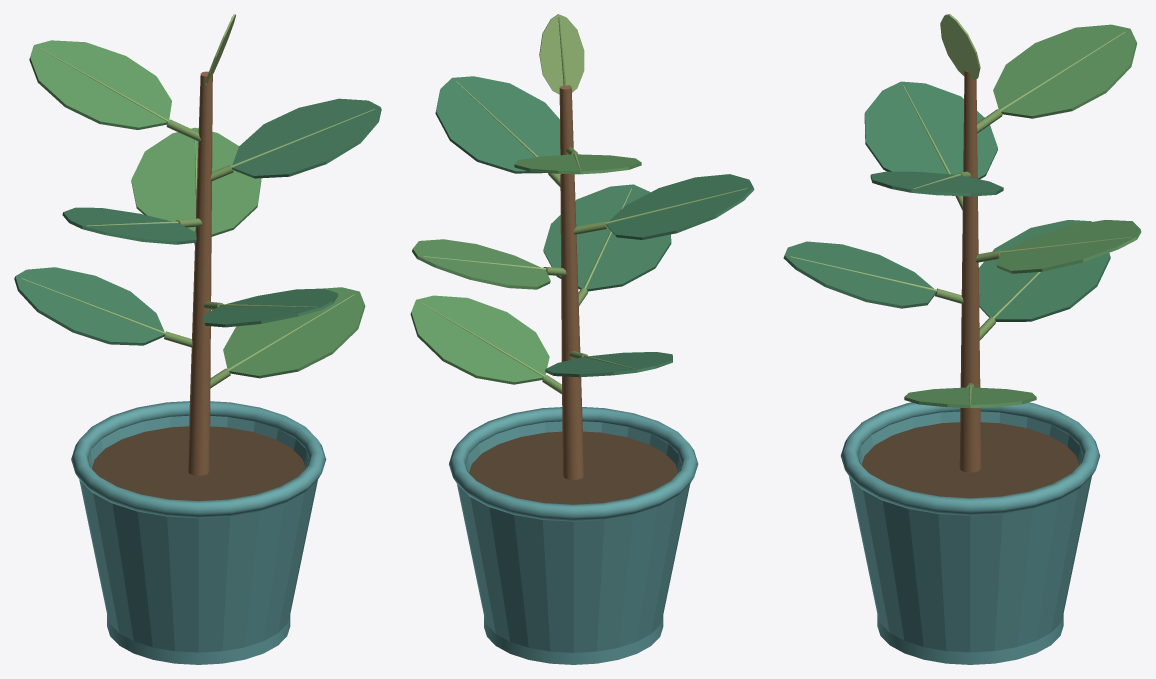
File: houseplant_rubber.glb
3 views of the same model, side by side, from view 1: azimuth 30°, elevation 25°; view 2: azimuth 150°, elevation 25°; view 3: azimuth 270°, elevation 25° (orthographic). The views are drawn at different scales.
Parts seen in each view (by area): view 1: Rubber_Plant_Open_Pot, Rubber_Plant_Visible_Soil, Rubber_Plant_Pot_Rim, Rubber_Plant_Oval_Leaf_6, Rubber_Plant_Oval_Leaf_3, Rubber_Plant_Oval_Leaf_5, Rubber_Plant_Oval_Leaf_1, Rubber_Plant_Main_Stem, Rubber_Plant_Oval_Leaf_0, Rubber_Plant_Oval_Leaf_2, Rubber_Plant_Oval_Leaf_4, Rubber_Plant_Pot_Floor; view 2: Rubber_Plant_Open_Pot, Rubber_Plant_Visible_Soil, Rubber_Plant_Pot_Rim, Rubber_Plant_Oval_Leaf_5, Rubber_Plant_Oval_Leaf_0, Rubber_Plant_Oval_Leaf_2, Rubber_Plant_Main_Stem, Rubber_Plant_Oval_Leaf_4, Rubber_Plant_Oval_Leaf_3, Rubber_Plant_New_Upright_Leaf, Rubber_Plant_Pot_Floor, Rubber_Plant_Oval_Leaf_1 (+1 smaller); view 3: Rubber_Plant_Open_Pot, Rubber_Plant_Visible_Soil, Rubber_Plant_Oval_Leaf_6, Rubber_Plant_Oval_Leaf_4, Rubber_Plant_Pot_Rim, Rubber_Plant_Oval_Leaf_1, Rubber_Plant_Main_Stem, Rubber_Plant_Oval_Leaf_2, Rubber_Plant_Oval_Leaf_3, Rubber_Plant_Pot_Floor, Rubber_Plant_Oval_Leaf_5, Rubber_Plant_Oval_Leaf_0 (+1 smaller).
Boxes of the visible parts, x1=… form: Rubber_Plant_Open_Pot: x1=79, y1=415, x2=317, y2=652; Rubber_Plant_Visible_Soil: x1=91, y1=426, x2=305, y2=500; Rubber_Plant_Pot_Rim: x1=71, y1=401, x2=326, y2=518; Rubber_Plant_Oval_Leaf_6: x1=29, y1=40, x2=171, y2=129; Rubber_Plant_Oval_Leaf_3: x1=131, y1=127, x2=261, y2=236; Rubber_Plant_Oval_Leaf_5: x1=232, y1=98, x2=381, y2=178; Rubber_Plant_Oval_Leaf_1: x1=14, y1=267, x2=164, y2=345; Rubber_Plant_Main_Stem: x1=187, y1=71, x2=212, y2=475; Rubber_Plant_Oval_Leaf_0: x1=223, y1=287, x2=365, y2=378; Rubber_Plant_Oval_Leaf_2: x1=203, y1=288, x2=338, y2=327; Rubber_Plant_Oval_Leaf_4: x1=62, y1=207, x2=196, y2=244; Rubber_Plant_Pot_Floor: x1=107, y1=614, x2=290, y2=664; Rubber_Plant_Open_Pot: x1=457, y1=421, x2=690, y2=652; Rubber_Plant_Visible_Soil: x1=469, y1=431, x2=677, y2=504; Rubber_Plant_Pot_Rim: x1=449, y1=407, x2=698, y2=521; Rubber_Plant_Oval_Leaf_5: x1=435, y1=76, x2=560, y2=173; Rubber_Plant_Oval_Leaf_0: x1=410, y1=295, x2=549, y2=384; Rubber_Plant_Oval_Leaf_2: x1=543, y1=184, x2=671, y2=291; Rubber_Plant_Main_Stem: x1=559, y1=85, x2=584, y2=479; Rubber_Plant_Oval_Leaf_4: x1=606, y1=174, x2=754, y2=239; Rubber_Plant_Oval_Leaf_3: x1=412, y1=239, x2=550, y2=289; Rubber_Plant_New_Upright_Leaf: x1=539, y1=14, x2=584, y2=94; Rubber_Plant_Pot_Floor: x1=484, y1=615, x2=663, y2=664; Rubber_Plant_Oval_Leaf_1: x1=545, y1=352, x2=672, y2=377; Rubber_Plant_Open_Pot: x1=849, y1=411, x2=1091, y2=652; Rubber_Plant_Visible_Soil: x1=861, y1=422, x2=1079, y2=498; Rubber_Plant_Oval_Leaf_6: x1=993, y1=24, x2=1137, y2=118; Rubber_Plant_Oval_Leaf_4: x1=864, y1=81, x2=997, y2=179; Rubber_Plant_Pot_Rim: x1=840, y1=402, x2=1100, y2=515; Rubber_Plant_Oval_Leaf_1: x1=979, y1=220, x2=1110, y2=321; Rubber_Plant_Main_Stem: x1=959, y1=70, x2=981, y2=472; Rubber_Plant_Oval_Leaf_2: x1=783, y1=241, x2=936, y2=308; Rubber_Plant_Oval_Leaf_3: x1=996, y1=220, x2=1141, y2=273; Rubber_Plant_Pot_Floor: x1=877, y1=614, x2=1063, y2=664; Rubber_Plant_Oval_Leaf_5: x1=870, y1=171, x2=1003, y2=196; Rubber_Plant_Oval_Leaf_0: x1=904, y1=387, x2=1036, y2=408.
Size of the model in its own units: 0.5849 by 1.09 by 0.5681.
